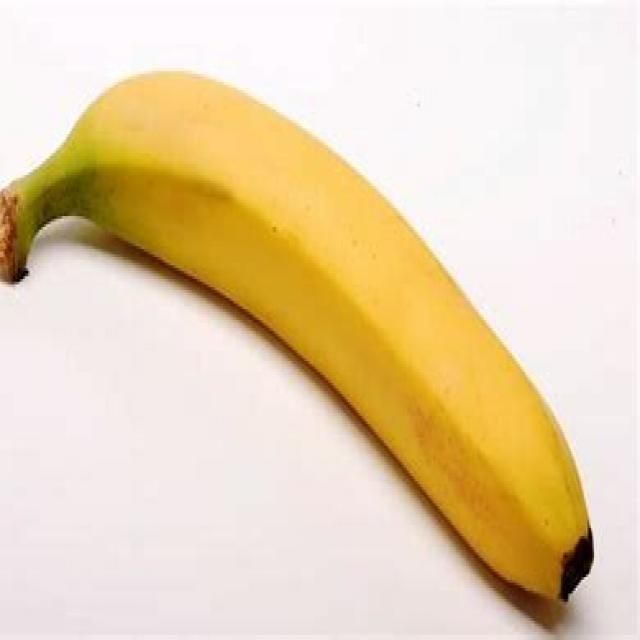Banana: (0, 59, 597, 628)
